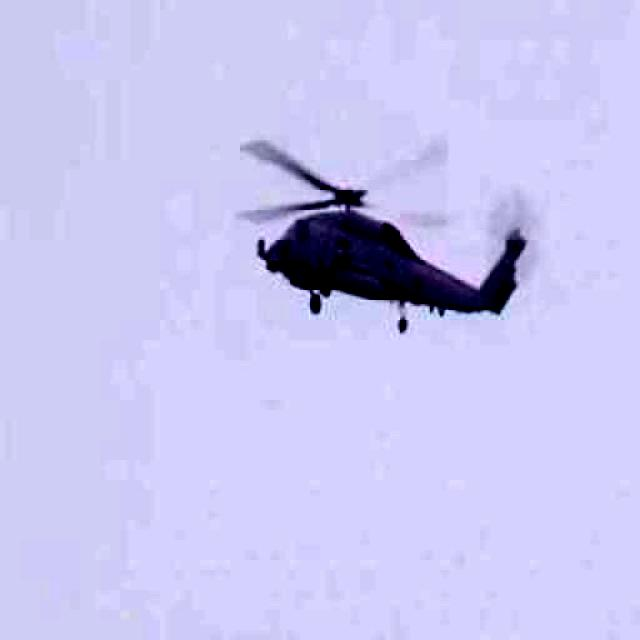drone: (179, 69, 568, 361)
